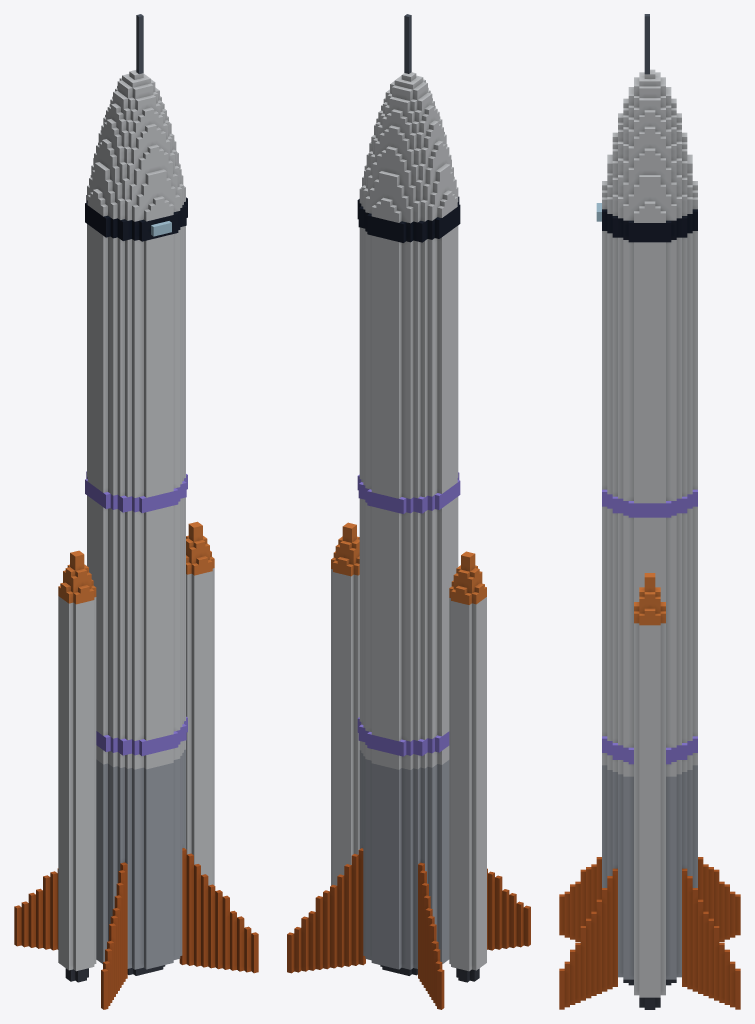
The model's file is rocket_e5.glb.
The picture shows the model from 3 angles, left to right: view 1: azimuth 30°, elevation 25°; view 2: azimuth 150°, elevation 25°; view 3: azimuth 270°, elevation 25°; orthographic projection.
Parts seen in each view (by area): view 1: Base; view 2: Base; view 3: Base.
Part boxes in pixels (bbox=[...]): Base: bbox=[14, 14, 258, 1009]; Base: bbox=[287, 14, 530, 1009]; Base: bbox=[559, 14, 740, 1009].
Size of the model in its own units: 3.4 by 19.9 by 3.4.
